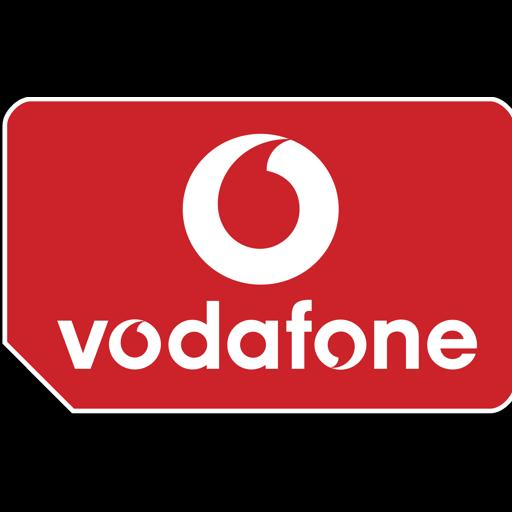Vodafone: (0, 97, 512, 414)
